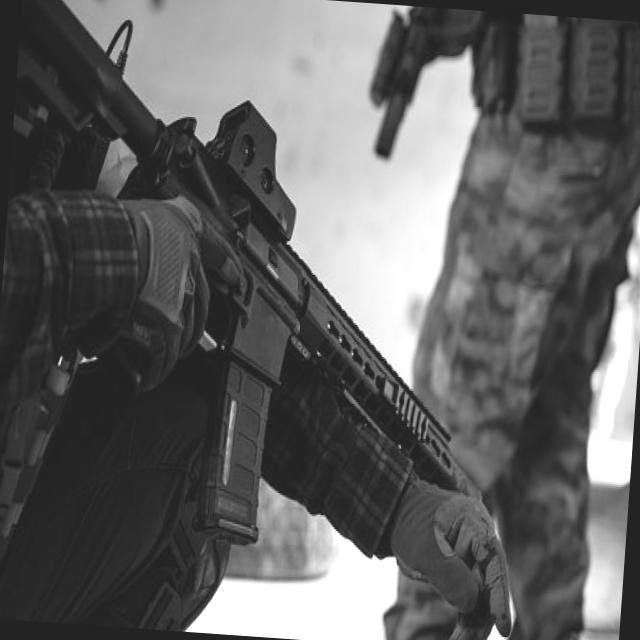m16: (0, 0, 551, 591)
